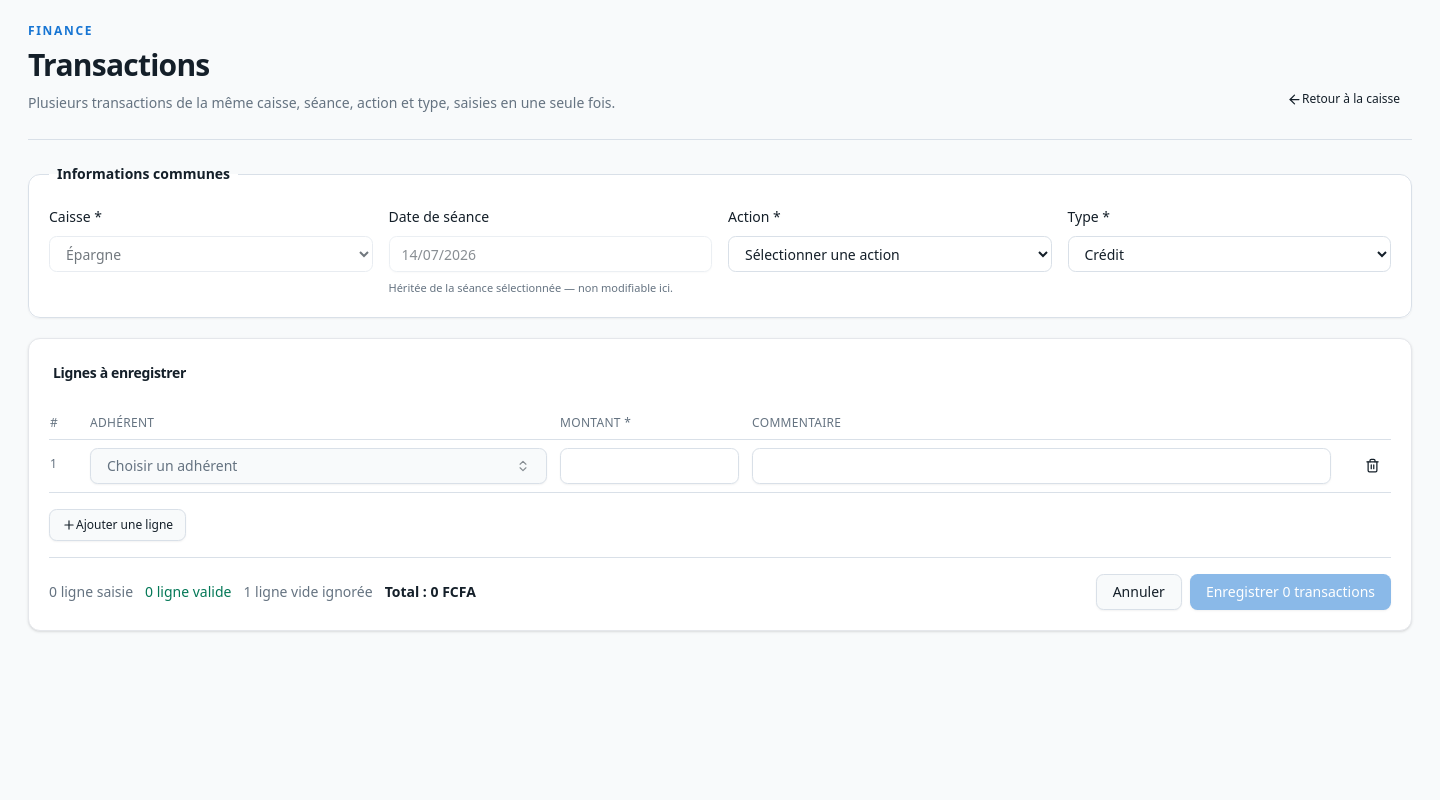
Saisie rapide — prêt financé par plusieurs caisses › caisse courante suffisante : « entièrement couvert », aucune autre caisse proposée, une seule transaction
The image size is (1440, 800).
expect the heading "Transactions" is shown: met, box [28, 44, 210, 85]
Select "Emprunter" in the dropdown labelled "Action *" at [890, 254], box [728, 236, 1052, 272]
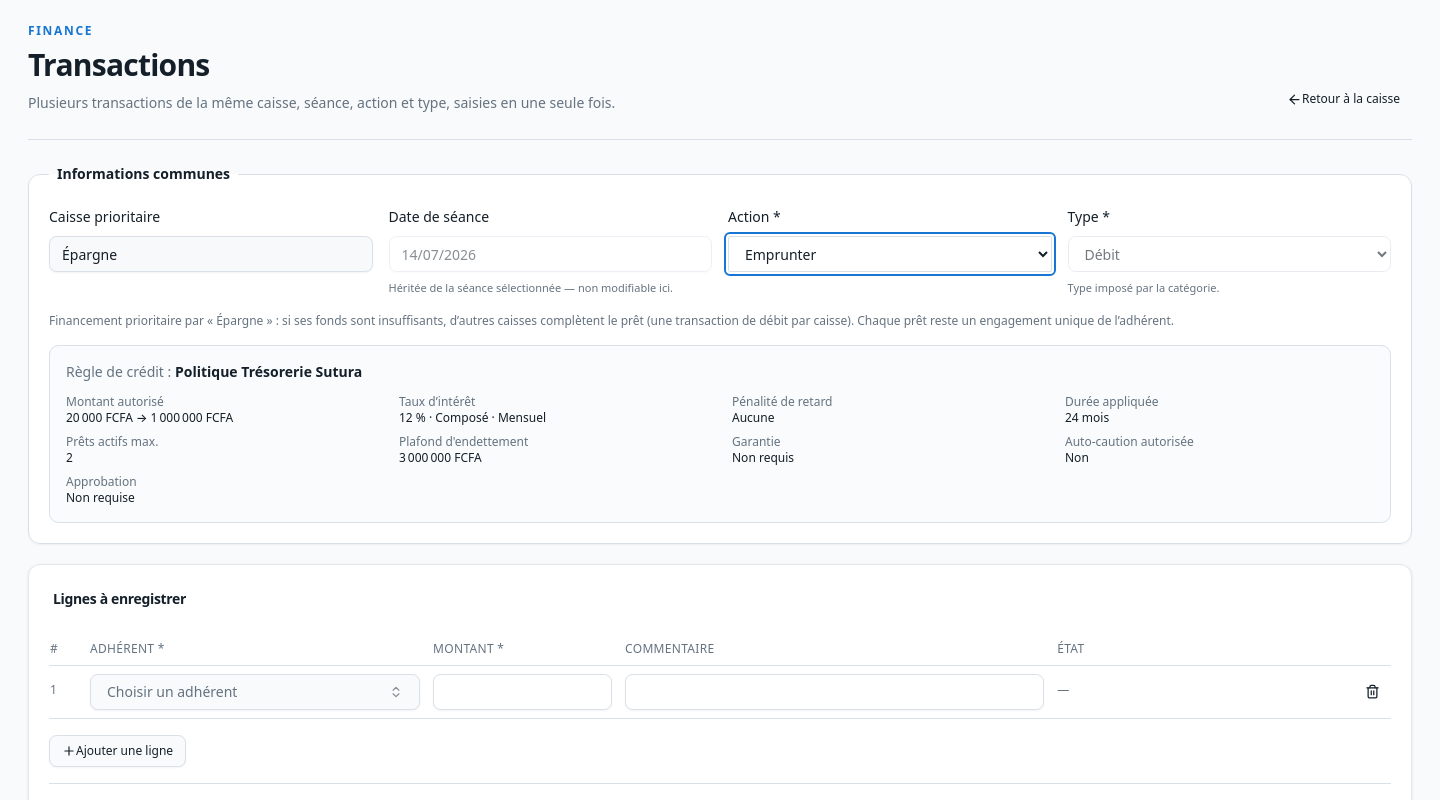
expect the element with test id "quick-entry-loan-rule" is shown: met, box [49, 344, 1391, 522]
expect the field labelled "Caisse prioritaire" holds "Épargne": met, box [49, 236, 372, 272]
Click the dropdown labelled "Choisir un adhérent" at [172, 691], box [90, 674, 420, 710]
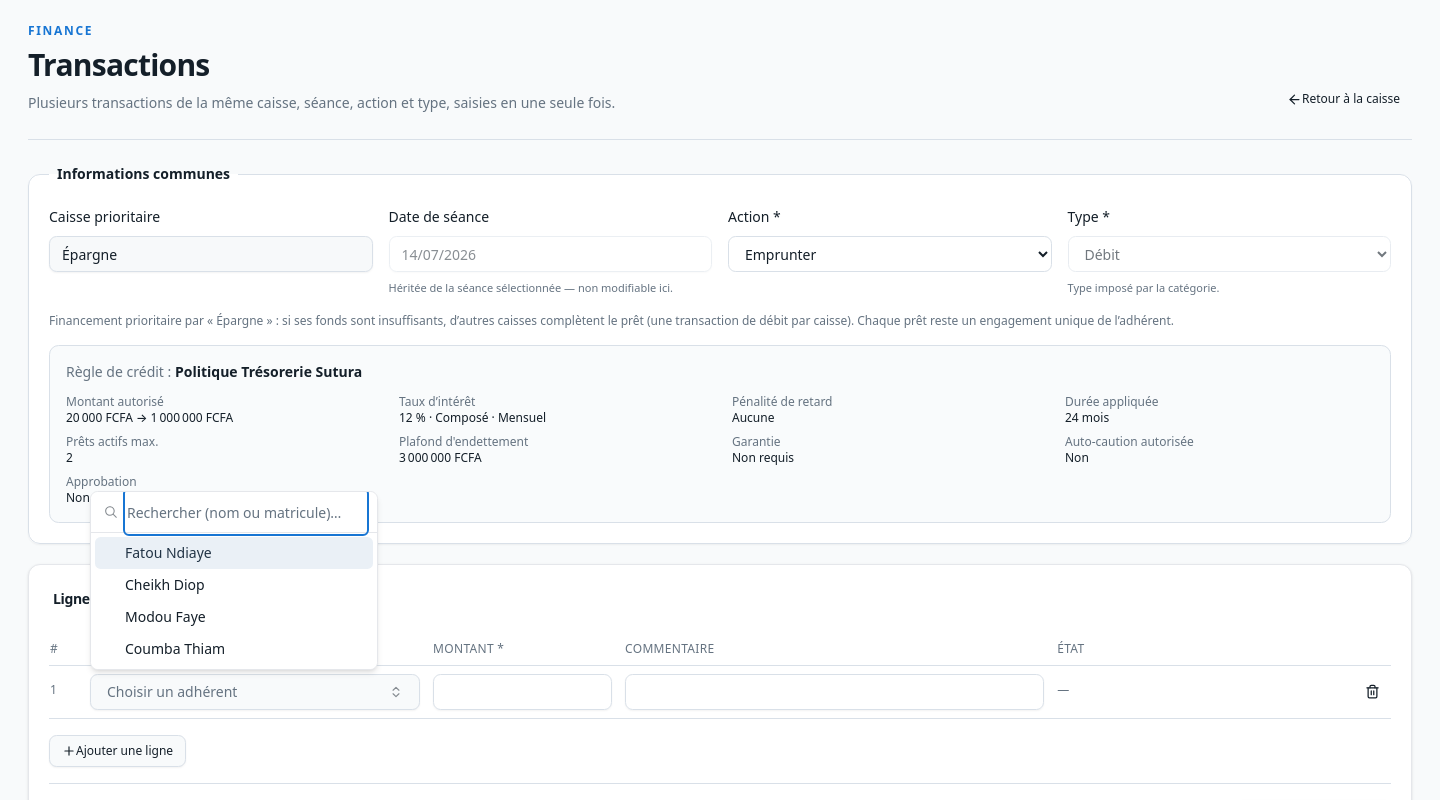
Type "Modou" into the dropdown with placeholder "Rechercher (nom ou matricule)…" at [246, 512], box [127, 492, 365, 532]
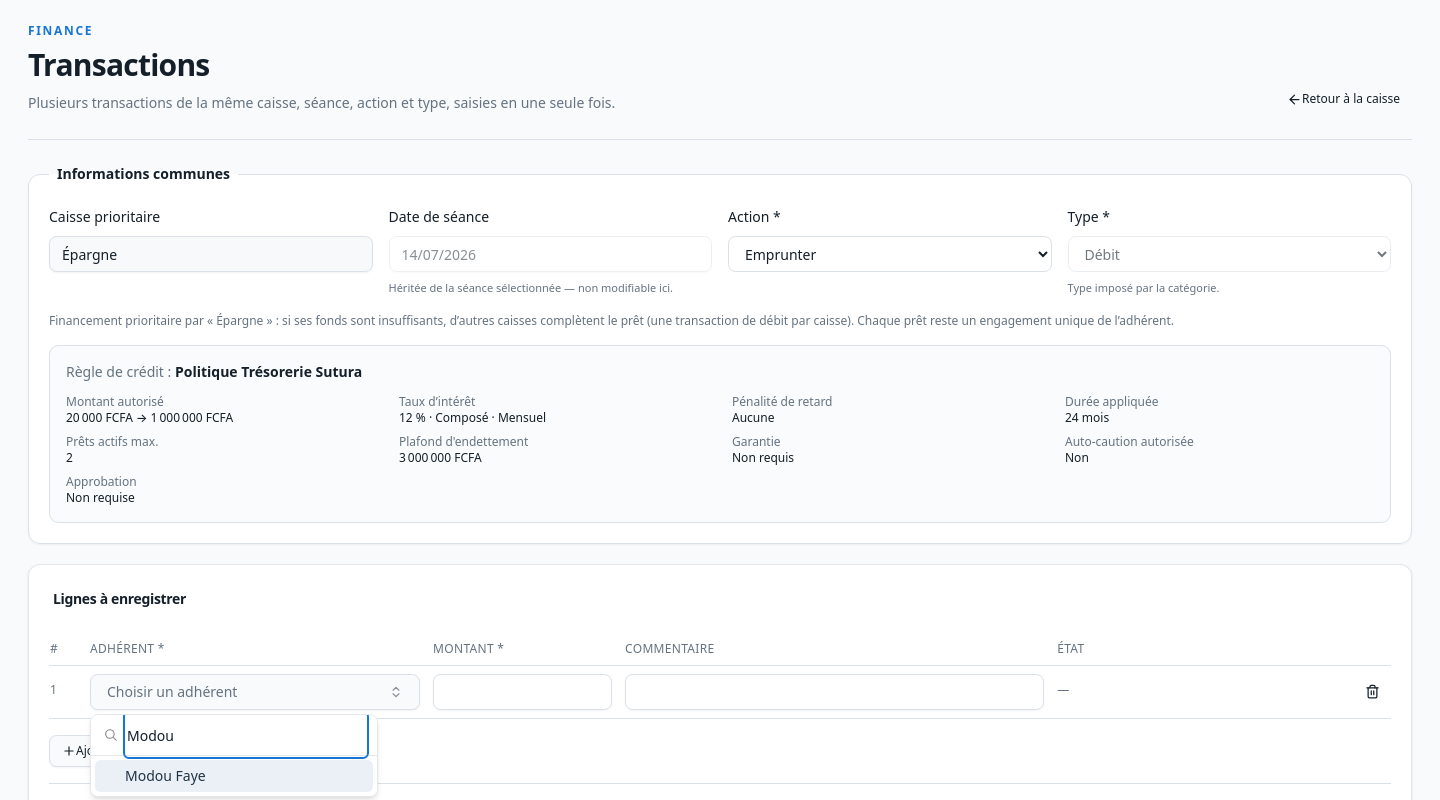
Click the option "Modou Faye" at [165, 776], box [95, 760, 373, 792]
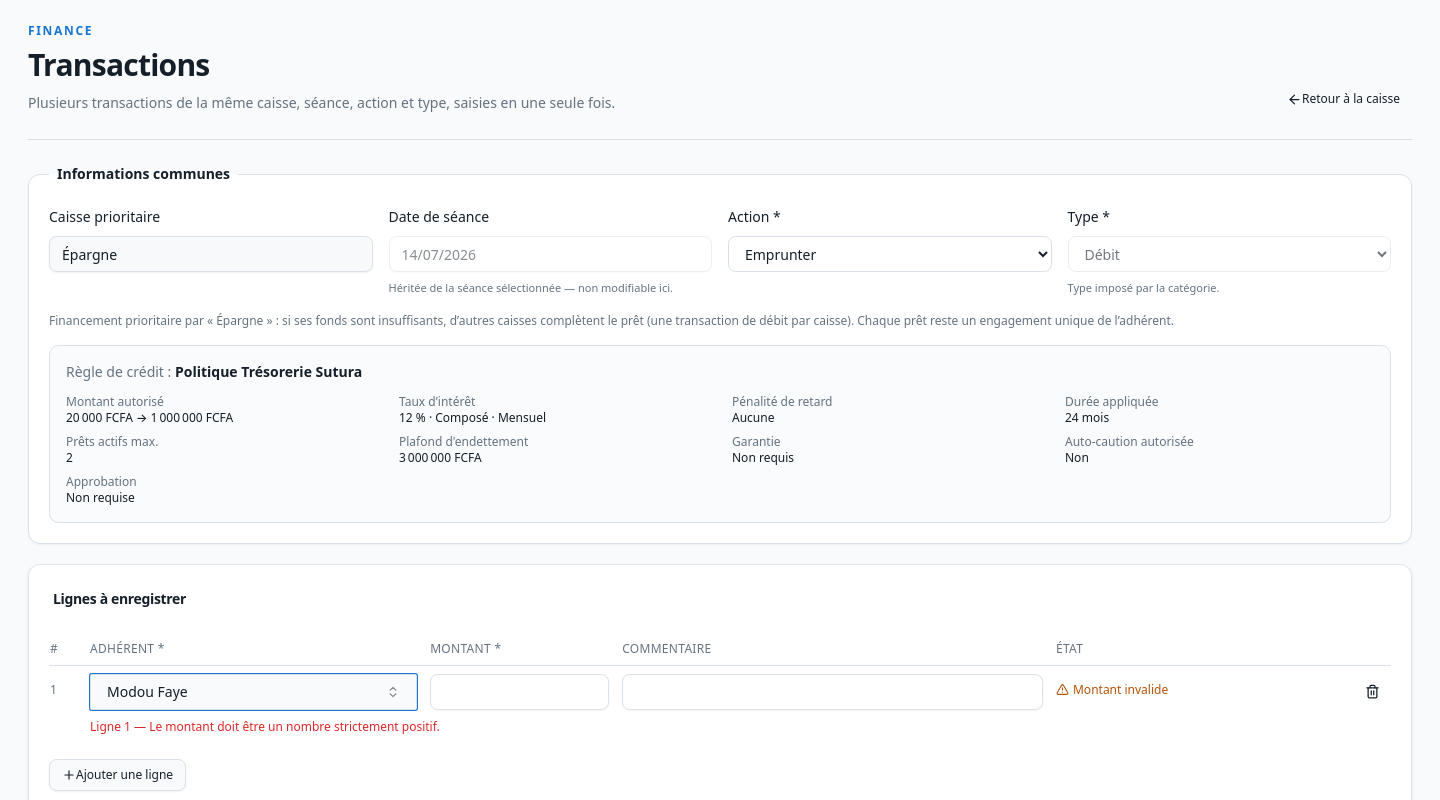
Type "150000" into the field named "Montant de la ligne 1" at [520, 692], box [430, 674, 609, 710]
(page scrolled)
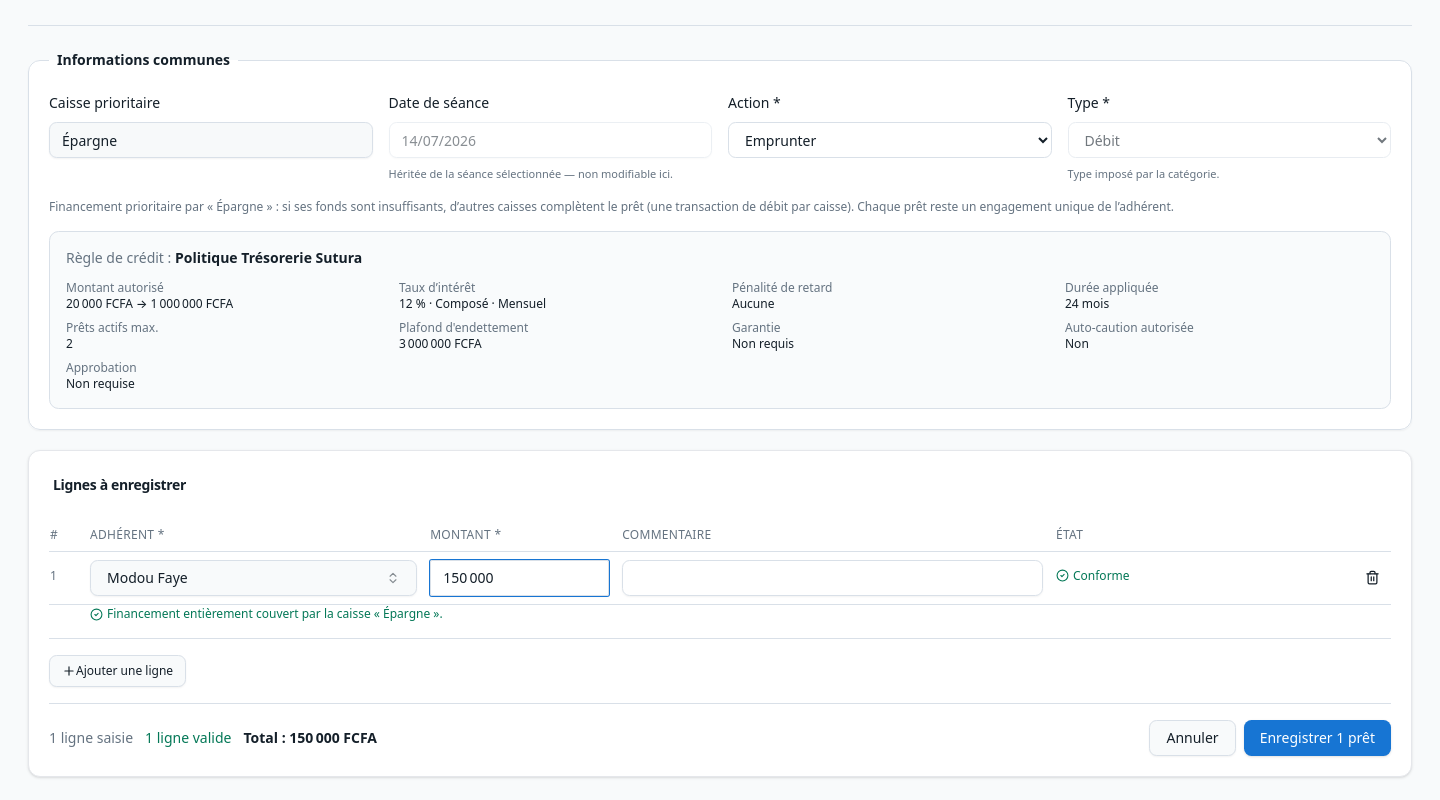
expect the element with test id "loan-funding-covered" reads "Financement entièrement couvert par la caisse « Épargne ».": met, box [107, 605, 443, 622]
Click the button "Enregistrer 1 prêt" at [1317, 738], box [1244, 720, 1391, 756]
(page scrolled)
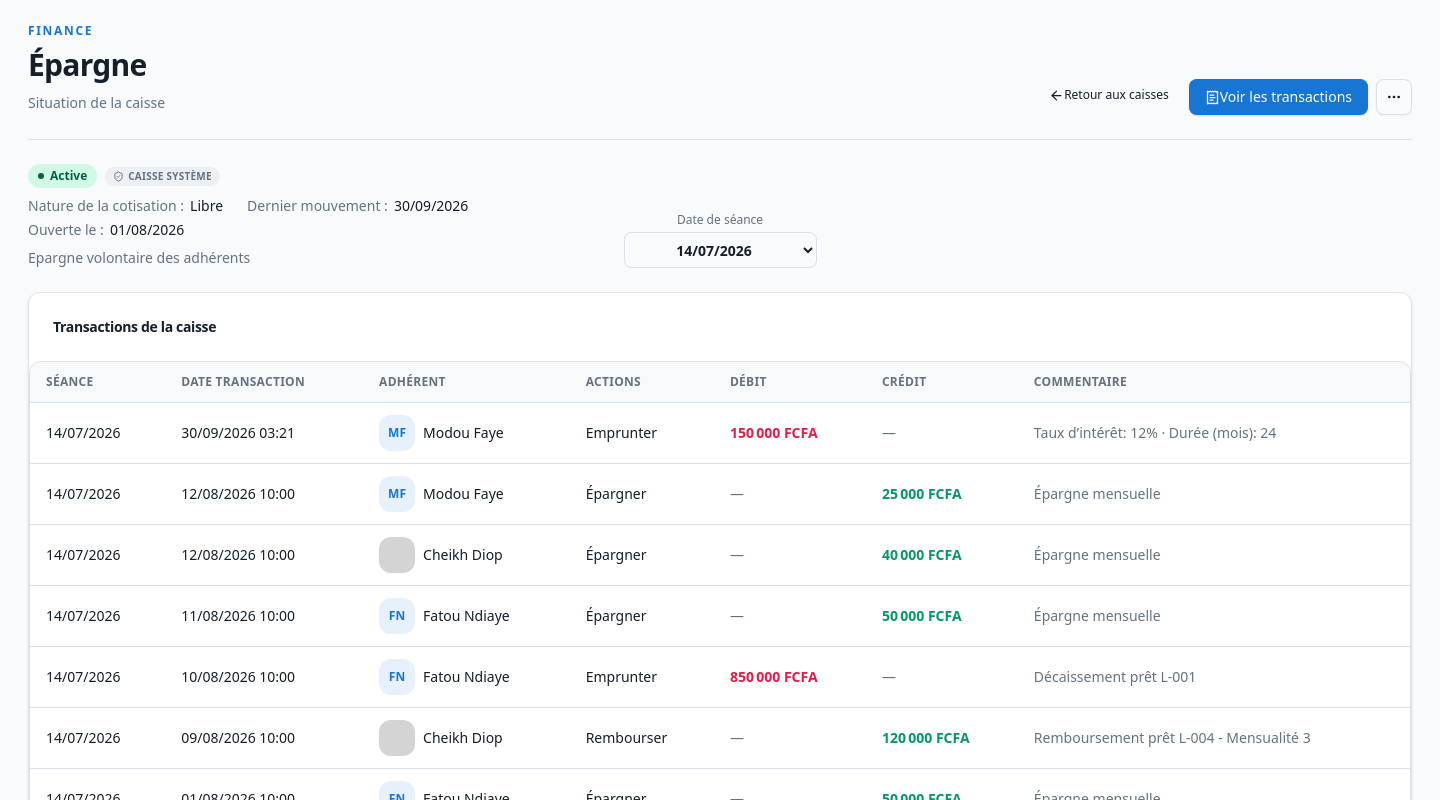
expect the heading "Épargne" is shown: met, box [28, 47, 165, 83]
